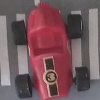carro: (12, 3, 89, 98)
